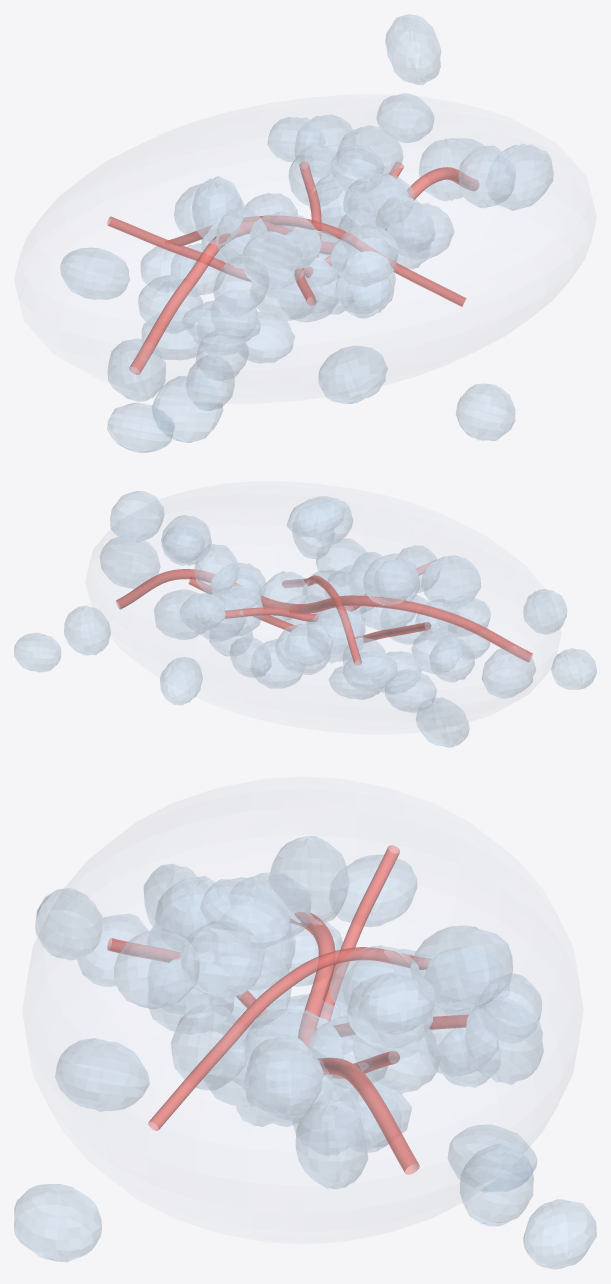
Rendered from multicell_backdrop.glb.
3 renders of one model, top to bottom at view 1: azimuth 30°, elevation 25°; view 2: azimuth 150°, elevation 25°; view 3: azimuth 270°, elevation 25°, orthographic. The views are drawn at different scales.
Visible parts, largest first — view 1: capillary_backdrop_01, beta_cell_backdrop_36, beta_cell_backdrop_08, beta_cell_backdrop_37, beta_cell_backdrop_10, beta_cell_backdrop_29, beta_cell_backdrop_45, beta_cell_backdrop_39, beta_cell_backdrop_33, beta_cell_backdrop_11, beta_cell_backdrop_24, beta_cell_backdrop_50 (+33 smaller); view 2: capillary_backdrop_01, beta_cell_backdrop_33, beta_cell_backdrop_25, beta_cell_backdrop_12, beta_cell_backdrop_37, beta_cell_backdrop_46, beta_cell_backdrop_24, beta_cell_backdrop_10, beta_cell_backdrop_48, beta_cell_backdrop_52, beta_cell_backdrop_30, beta_cell_backdrop_04 (+36 smaller); view 3: beta_cell_backdrop_37, beta_cell_backdrop_39, beta_cell_backdrop_27, beta_cell_backdrop_36, beta_cell_backdrop_25, beta_cell_backdrop_45, beta_cell_backdrop_50, capillary_backdrop_01, beta_cell_backdrop_52, beta_cell_backdrop_44, beta_cell_backdrop_48, capillary_backdrop_04 (+27 smaller).
Part boxes in pixels (left/top/right/bottom): capillary_backdrop_01: left=129, top=167, right=479, bottom=374; beta_cell_backdrop_36: left=318, top=346, right=387, bottom=403; beta_cell_backdrop_08: left=330, top=224, right=397, bottom=286; beta_cell_backdrop_37: left=385, top=14, right=440, bottom=84; beta_cell_backdrop_10: left=152, top=376, right=222, bottom=442; beta_cell_backdrop_29: left=60, top=248, right=129, bottom=299; beta_cell_backdrop_45: left=458, top=146, right=515, bottom=207; beta_cell_backdrop_39: left=456, top=383, right=515, bottom=440; beta_cell_backdrop_33: left=213, top=253, right=268, bottom=317; beta_cell_backdrop_11: left=107, top=403, right=174, bottom=452; beta_cell_backdrop_24: left=108, top=339, right=165, bottom=401; beta_cell_backdrop_50: left=375, top=196, right=435, bottom=253; capillary_backdrop_01: left=116, top=569, right=532, bottom=662; beta_cell_backdrop_33: left=421, top=555, right=480, bottom=607; beta_cell_backdrop_25: left=100, top=537, right=160, bottom=588; beta_cell_backdrop_12: left=363, top=553, right=417, bottom=605; beta_cell_backdrop_37: left=110, top=491, right=164, bottom=542; beta_cell_backdrop_46: left=275, top=624, right=330, bottom=674; beta_cell_backdrop_24: left=482, top=647, right=535, bottom=698; beta_cell_backdrop_10: left=416, top=697, right=469, bottom=747; beta_cell_backdrop_48: left=64, top=605, right=110, bottom=655; beta_cell_backdrop_52: left=287, top=496, right=345, bottom=536; beta_cell_backdrop_30: left=194, top=544, right=239, bottom=594; beta_cell_backdrop_04: left=385, top=669, right=436, bottom=712; beta_cell_backdrop_37: left=410, top=926, right=512, bottom=1012; beta_cell_backdrop_39: left=14, top=1184, right=101, bottom=1261; beta_cell_backdrop_27: left=465, top=997, right=543, bottom=1084; beta_cell_backdrop_36: left=55, top=1038, right=149, bottom=1111; beta_cell_backdrop_25: left=296, top=1100, right=367, bottom=1188; beta_cell_backdrop_45: left=246, top=1035, right=322, bottom=1118; beta_cell_backdrop_50: left=114, top=929, right=199, bottom=1009; capillary_backdrop_01: left=290, top=912, right=419, bottom=1174; beta_cell_backdrop_52: left=200, top=877, right=289, bottom=950; beta_cell_backdrop_44: left=181, top=921, right=264, bottom=997; beta_cell_backdrop_48: left=460, top=1144, right=533, bottom=1226; capillary_backdrop_04: left=148, top=947, right=430, bottom=1130.
Size of the model in its own units: 23.16 by 11.73 by 15.99.
